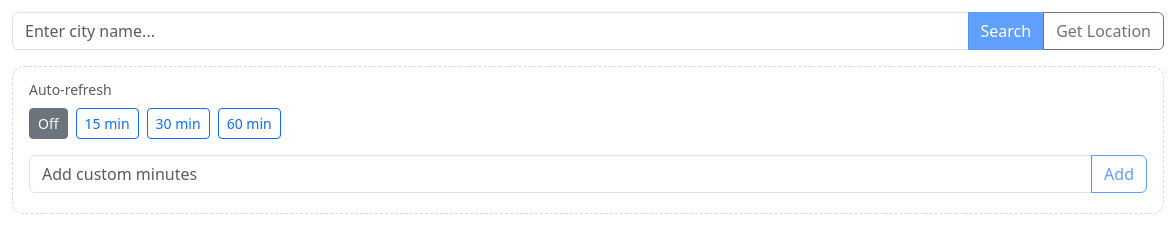
Test: SearchBar › shows error toast when geolocation is not supported
Step 1. Click the button "Get Location" → (1104, 31), box left=1043, top=12, right=1164, bottom=50
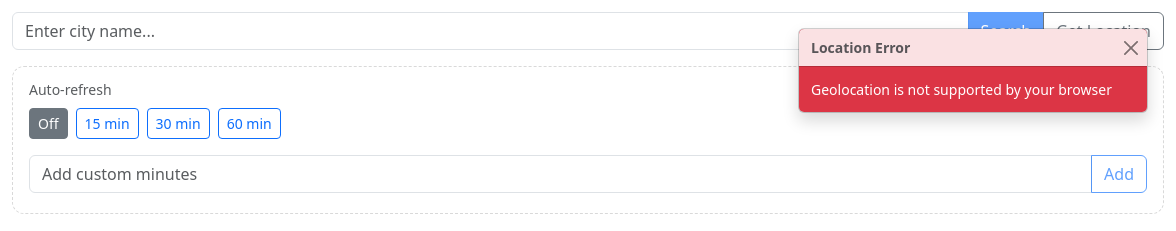
Expected: the text "Geolocation is not supported by your browser" is shown, left=811, top=80, right=1112, bottom=99
